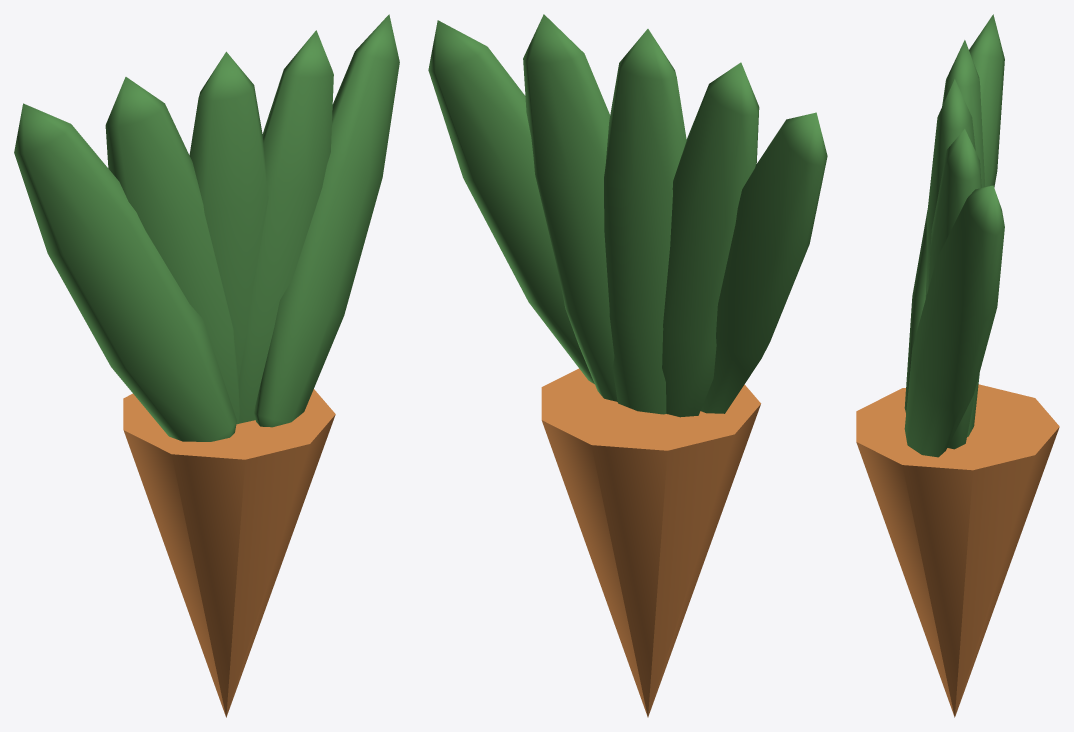
File: carrot.glb
3 renders of one model, left to right at view 1: azimuth 30°, elevation 25°; view 2: azimuth 150°, elevation 25°; view 3: azimuth 270°, elevation 25°, orthographic. The views are drawn at different scales.
Visible parts, largest first — view 1: Leaf-2, Root; view 2: Leaf-2, Root; view 3: Root, Leaf-2.
Part boxes in pixels (bbox=[...]): Leaf-2: bbox=[14, 14, 399, 441]; Root: bbox=[123, 389, 335, 717]; Leaf-2: bbox=[428, 14, 827, 417]; Root: bbox=[541, 368, 760, 717]; Root: bbox=[856, 384, 1059, 717]; Leaf-2: bbox=[904, 14, 1004, 457].
Size of the model in its own units: 0.6426 by 1.08 by 0.3104.
